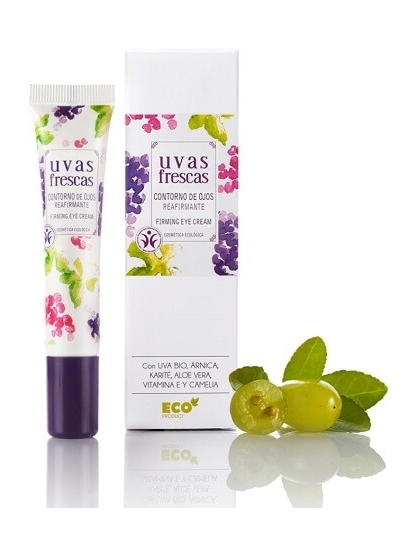Green grapes: (265, 380, 351, 437)
